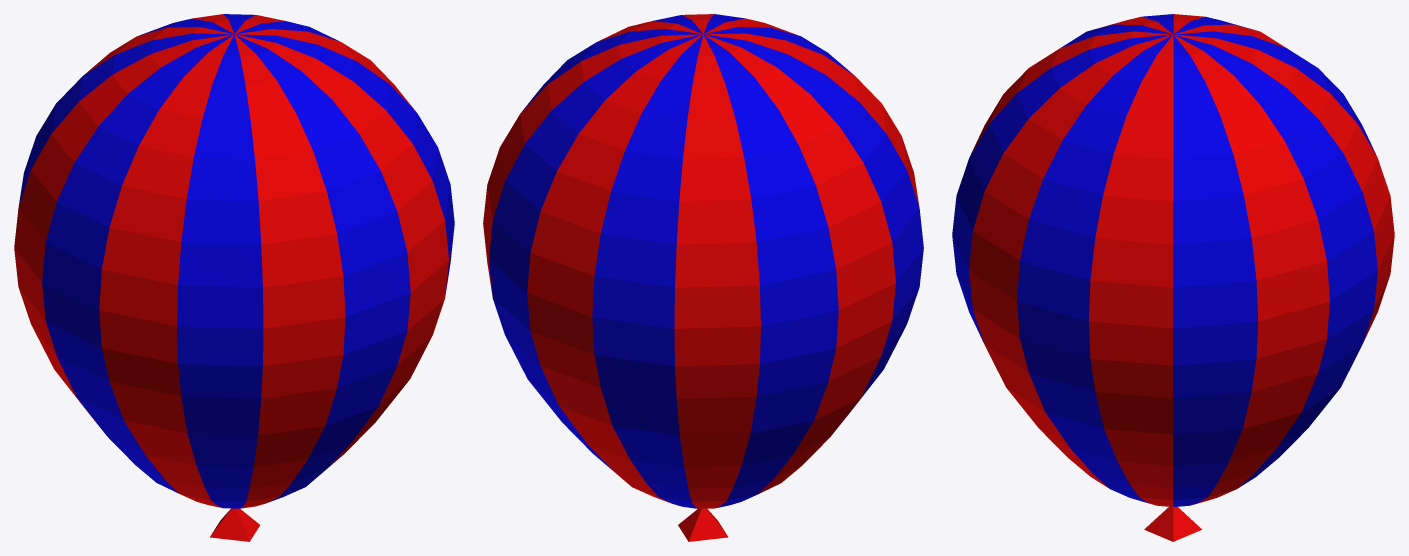
The model's file is balloon.fbx.
3 renders of one model, left to right at view 1: azimuth 30°, elevation 25°; view 2: azimuth 150°, elevation 25°; view 3: azimuth 270°, elevation 25°, orthographic.
Parts seen in each view (by area): view 1: Sphere; view 2: Sphere; view 3: Sphere.
Part boxes in pixels (left/top/right/bottom): Sphere: left=14, top=14, right=454, bottom=541; Sphere: left=483, top=14, right=923, bottom=541; Sphere: left=952, top=14, right=1394, bottom=541.
Size of the model in its own units: 200 by 247 by 200.
